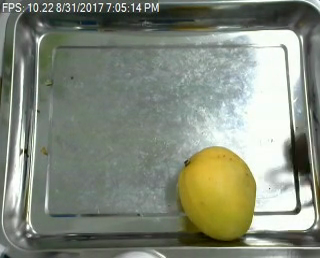Mango: (177, 145, 257, 238)
